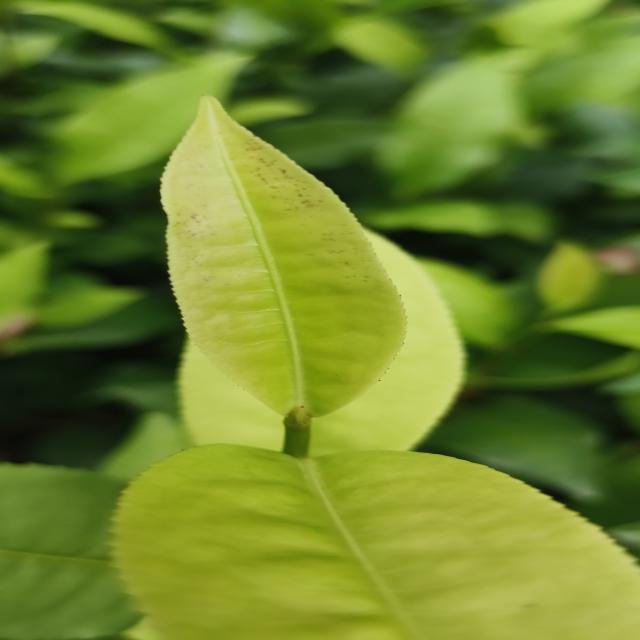Leaf: (115, 444, 640, 640), (161, 97, 404, 417), (53, 52, 249, 183), (0, 463, 138, 640), (379, 52, 524, 196), (424, 395, 601, 498), (14, 0, 169, 50), (536, 242, 599, 313)
